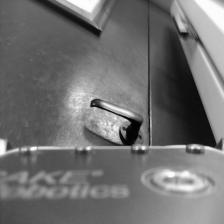Door Handle: (90, 98, 148, 147)
